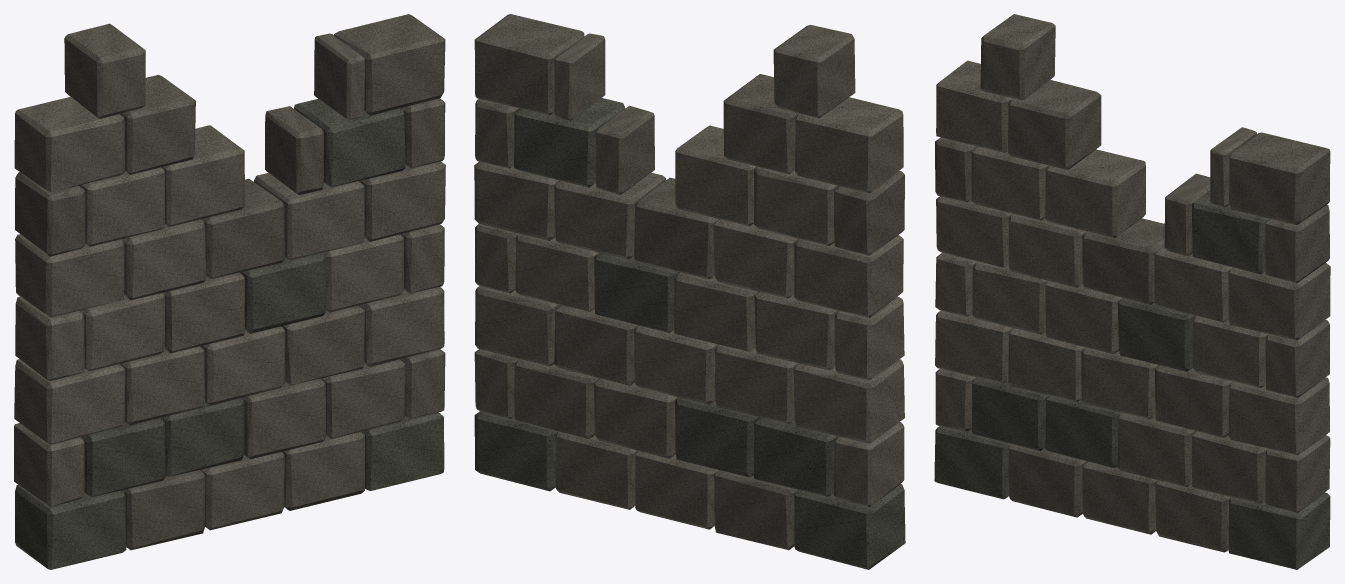
File: env_ruin_walls_03_ragged_tall.glb
The picture shows the model from 3 angles, left to right: view 1: azimuth 30°, elevation 25°; view 2: azimuth 150°, elevation 25°; view 3: azimuth 330°, elevation 25°; orthographic projection. The views are drawn at different scales.
Size of the model in its own units: 1.99 by 2.39 by 0.3247.
Materials: 1 (1 with a texture image).
